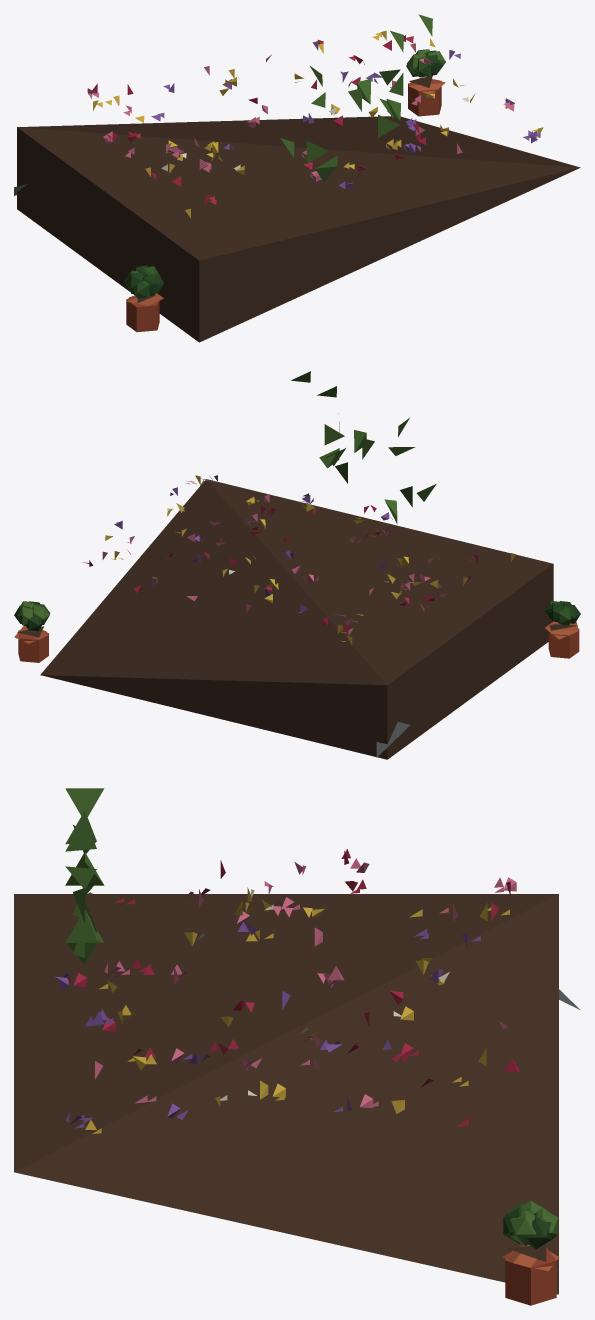
Rendered from deco_flowerbed.glb.
The picture shows the model from 3 angles, top to bottom: view 1: azimuth 30°, elevation 25°; view 2: azimuth 150°, elevation 25°; view 3: azimuth 270°, elevation 25°; orthographic projection. The views are drawn at different scales.
Bounding box in the file's own units: 1.84 × 0.9505 × 1.3.
